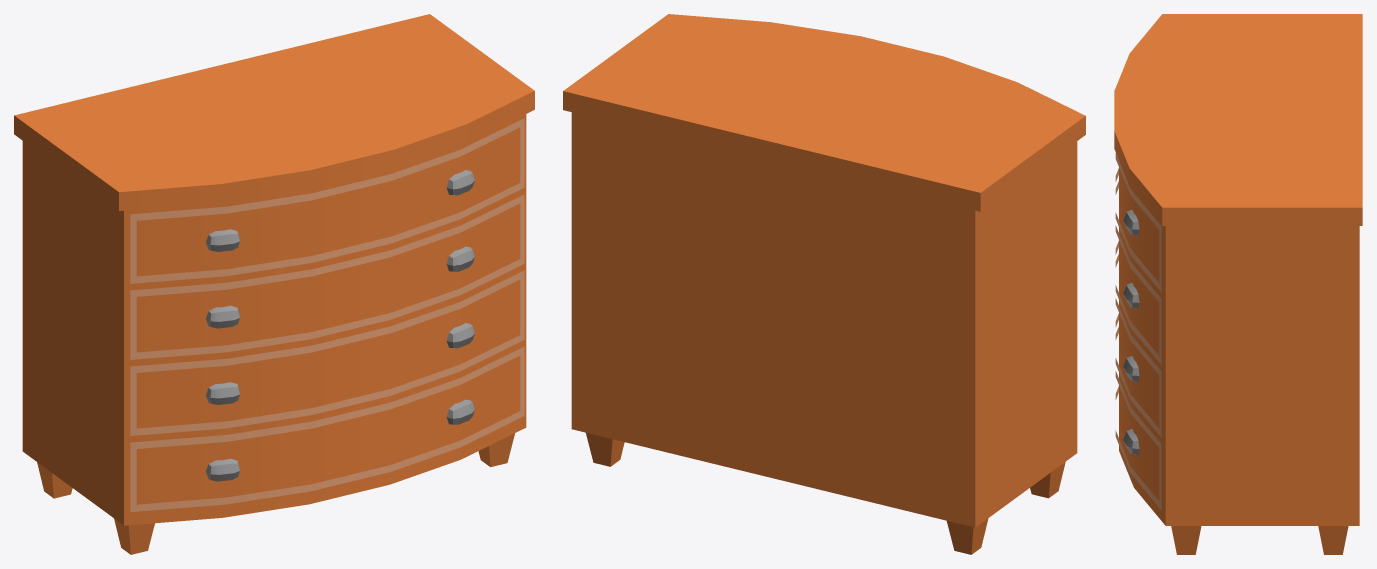
File: Armario03.fbx
3 views of the same model, side by side, from view 1: azimuth 30°, elevation 25°; view 2: azimuth 150°, elevation 25°; view 3: azimuth 270°, elevation 25° (orthographic). The views are drawn at different scales.
Visible parts, largest first — view 1: Armario03; view 2: Armario03; view 3: Armario03.
Part boxes in pixels (x1=…): Armario03: x1=14, y1=14, x2=534, y2=554; Armario03: x1=563, y1=14, x2=1085, y2=554; Armario03: x1=1114, y1=14, x2=1362, y2=554.
Bounding box in the file's own units: 0.8324 × 0.7137 × 0.4513.
